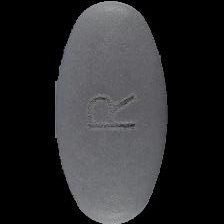55111-534: (0, 0, 224, 224)
